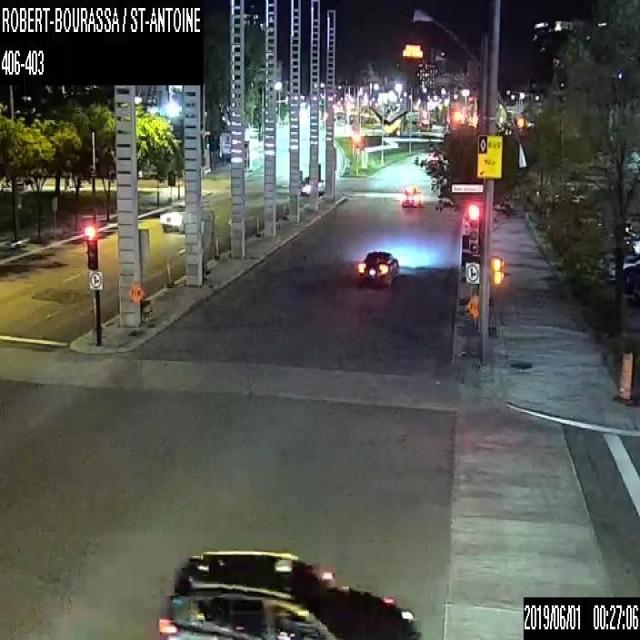construction: (614, 350, 636, 404), (126, 279, 144, 336), (466, 294, 479, 318)
vehicle: (156, 546, 421, 638), (357, 249, 399, 287), (159, 202, 185, 232), (401, 184, 421, 208), (301, 176, 324, 196)
